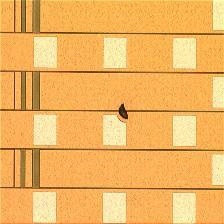PARTICLE: (117, 103, 131, 125)
